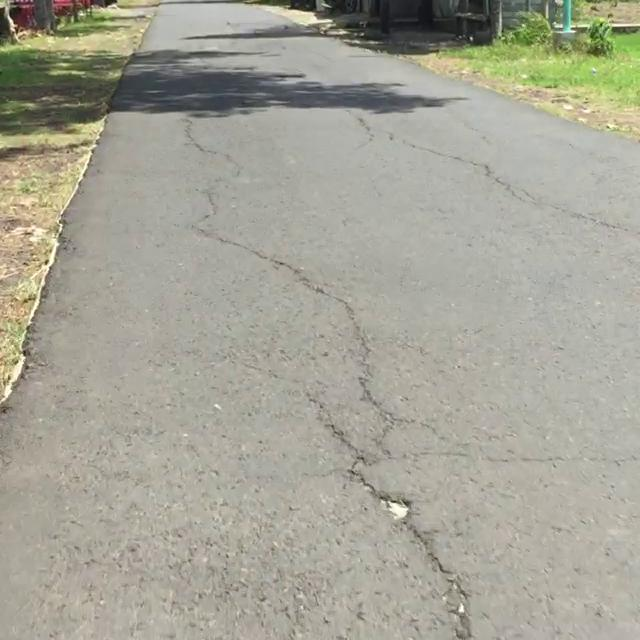retak_memanjang: (152, 101, 492, 640), (352, 107, 640, 241)
